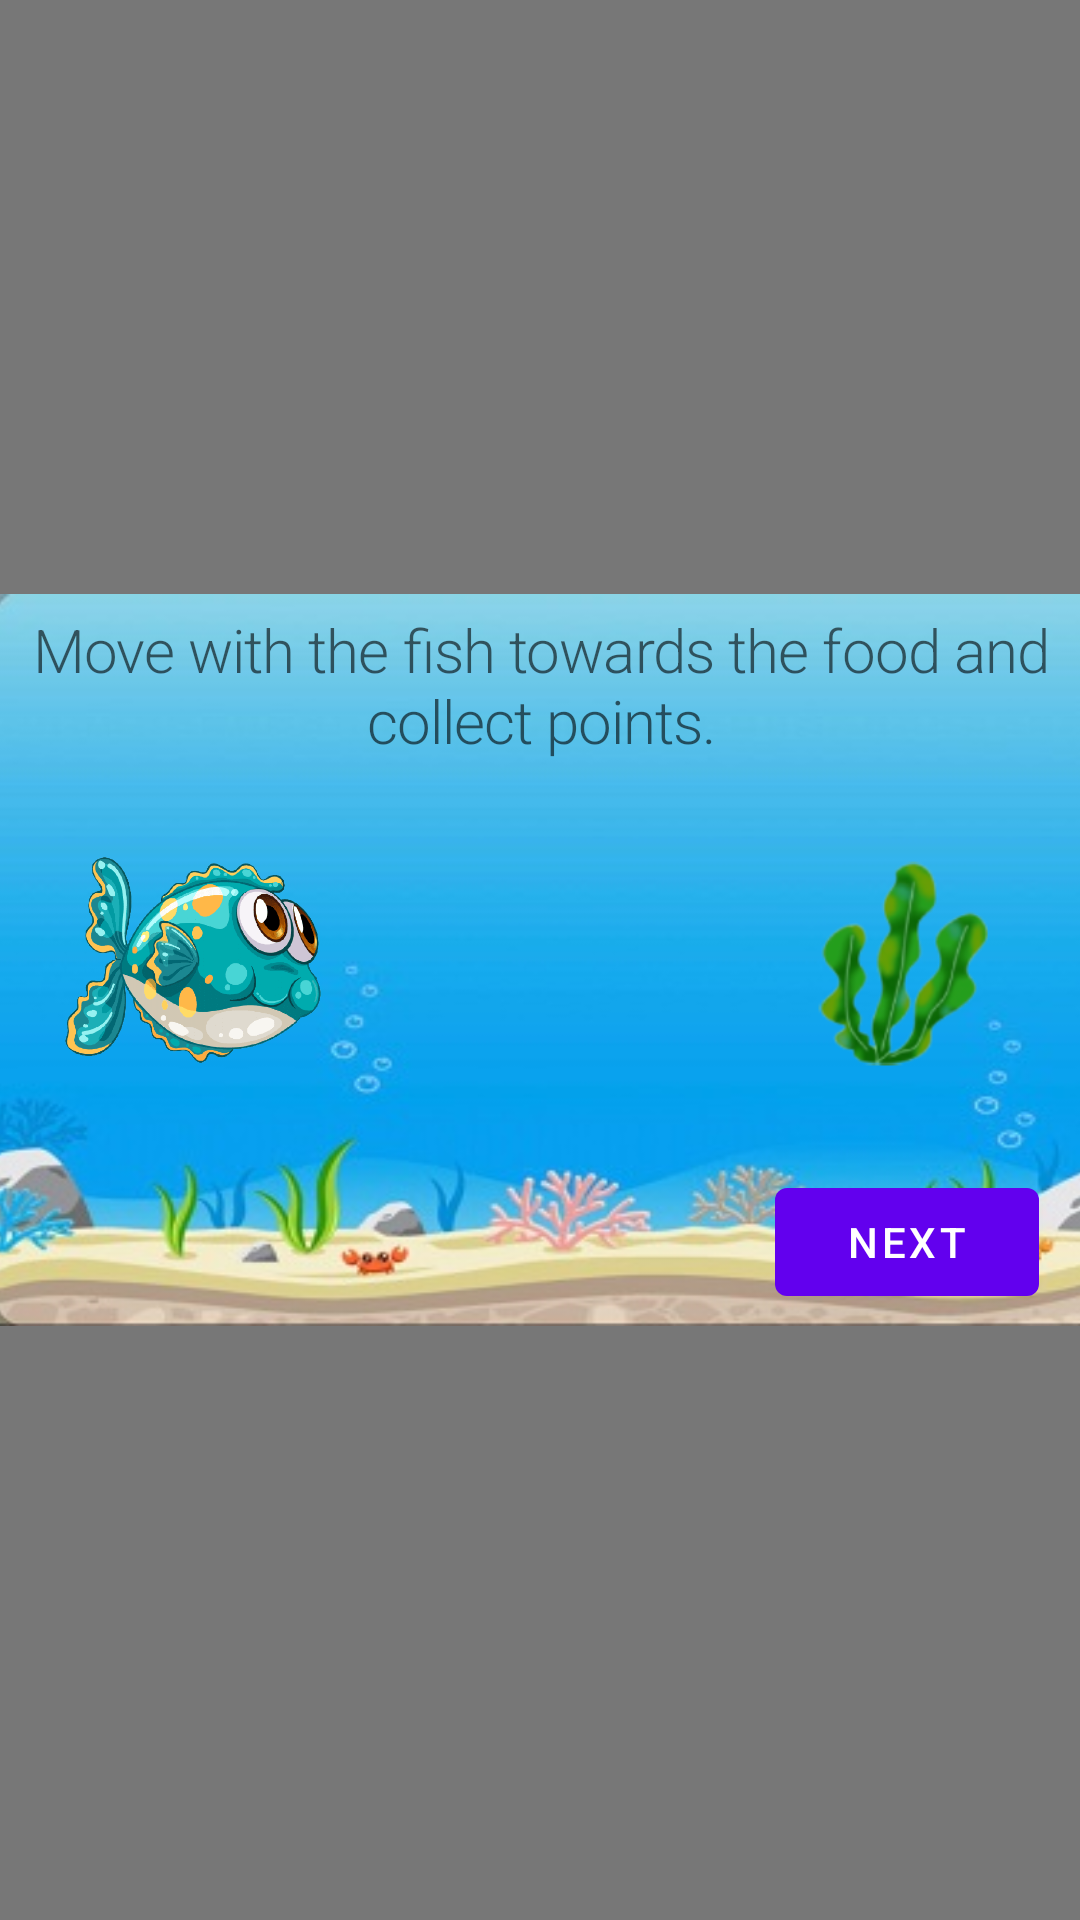

Icon click points for this 1080*1920 phone screenshot, format [x,y]:
fish player: [193,960]
